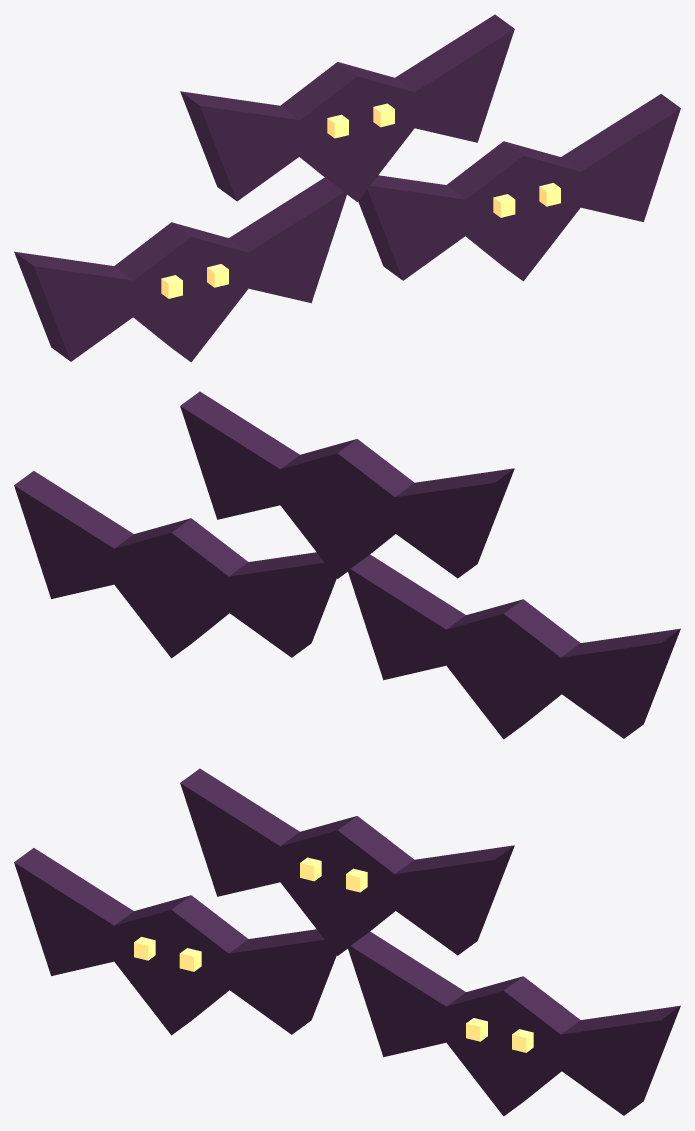
Rendered from bats.glb.
3 renders of one model, top to bottom at view 1: azimuth 30°, elevation 25°; view 2: azimuth 150°, elevation 25°; view 3: azimuth 330°, elevation 25°, orthographic.
Visible parts, largest first — view 1: Bat Swarm dimensional effect.001; view 2: Bat Swarm dimensional effect.001; view 3: Bat Swarm dimensional effect.001.
Part boxes in pixels (x1=…): Bat Swarm dimensional effect.001: x1=14, y1=14, x2=680, y2=362; Bat Swarm dimensional effect.001: x1=14, y1=391, x2=680, y2=739; Bat Swarm dimensional effect.001: x1=14, y1=768, x2=680, y2=1116.
Bounding box in the file's own units: 2.26 × 0.85 × 0.165.
